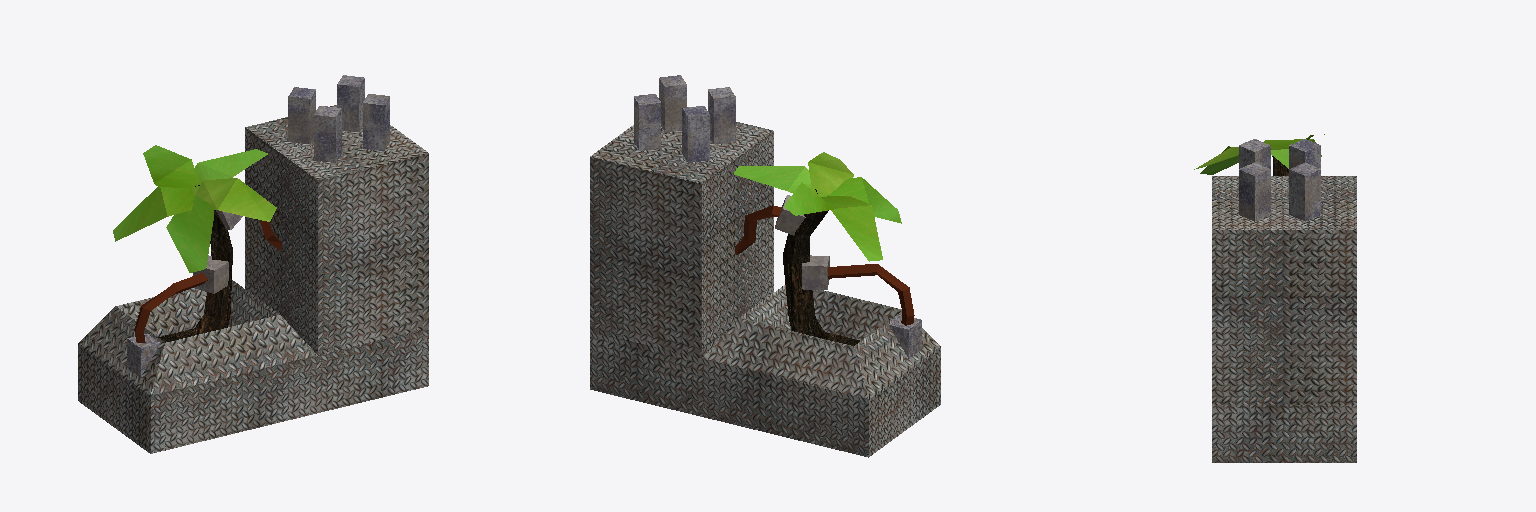
3 views of the same model, side by side, from view 1: azimuth 30°, elevation 25°; view 2: azimuth 150°, elevation 25°; view 3: azimuth 270°, elevation 25° (orthographic).
Visible parts, largest first — view 1: Cube; view 2: Cube; view 3: Cube.
Boxes of the visible parts, box(x1,y1,x2,y2) form: Cube: box(78, 75, 428, 453); Cube: box(590, 75, 940, 457); Cube: box(1194, 134, 1356, 462).
Bounding box in the file's own units: 5 × 4.78 × 2.67.
5 materials, 4 textured.